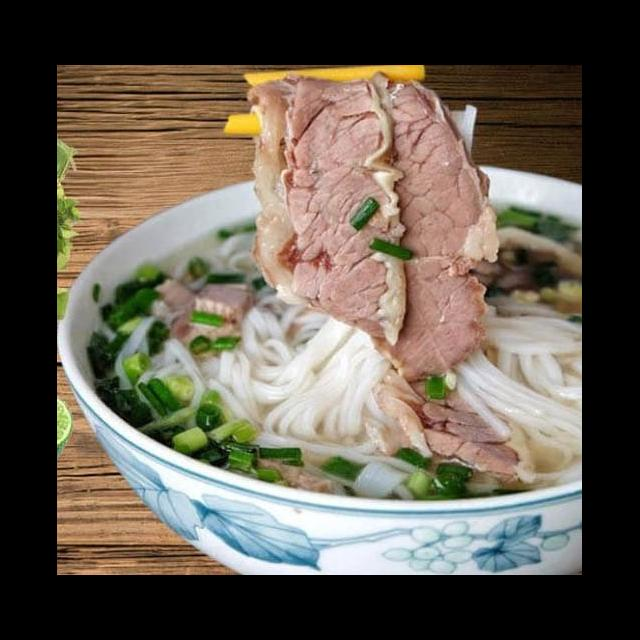banh pho: (196, 288, 400, 466), (450, 294, 582, 481), (100, 313, 272, 435)
pho bo: (58, 114, 582, 575)
thit bo: (244, 70, 506, 390), (378, 364, 524, 481), (154, 274, 253, 354)
